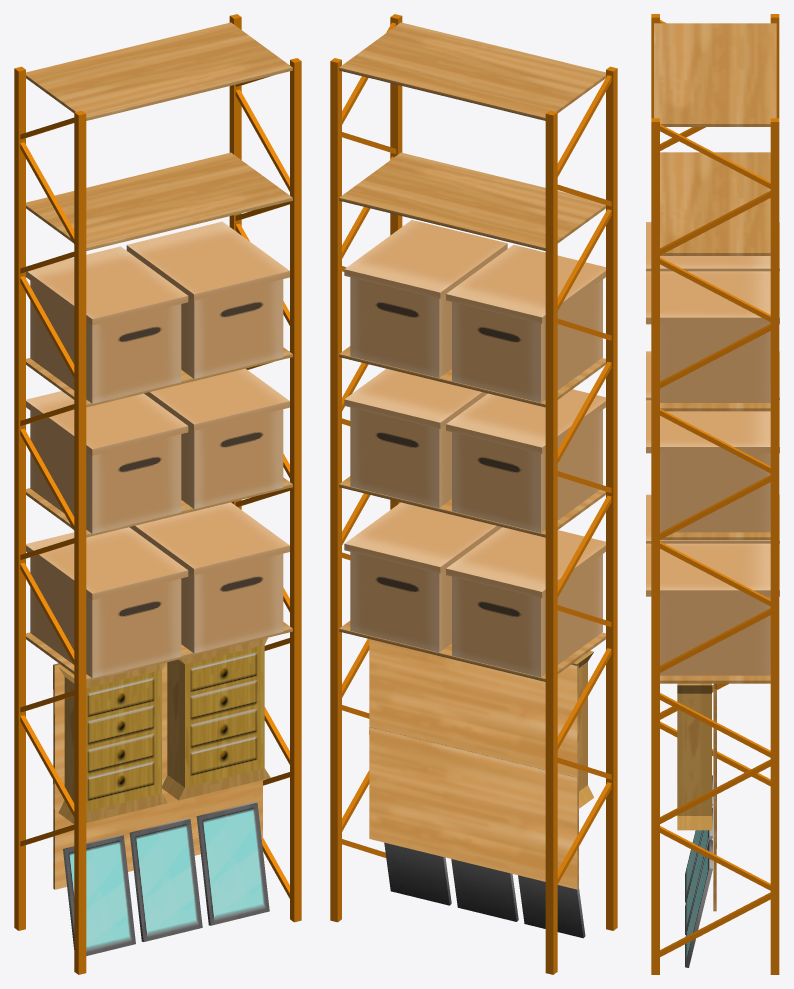
File: Mirror_Rack.fbx
The picture shows the model from 3 angles, left to right: view 1: azimuth 30°, elevation 25°; view 2: azimuth 150°, elevation 25°; view 3: azimuth 270°, elevation 25°; orthographic projection.
Parts seen in each view (by area): view 1: Mirror_Display; view 2: Mirror_Display; view 3: Mirror_Display.
Part boxes in pixels (x1,y1,x2,y2): Mirror_Display: [14, 14, 301, 974]; Mirror_Display: [330, 14, 617, 974]; Mirror_Display: [646, 14, 779, 974].
Bounding box in the file's own units: 2 × 7.37 × 1.05.
